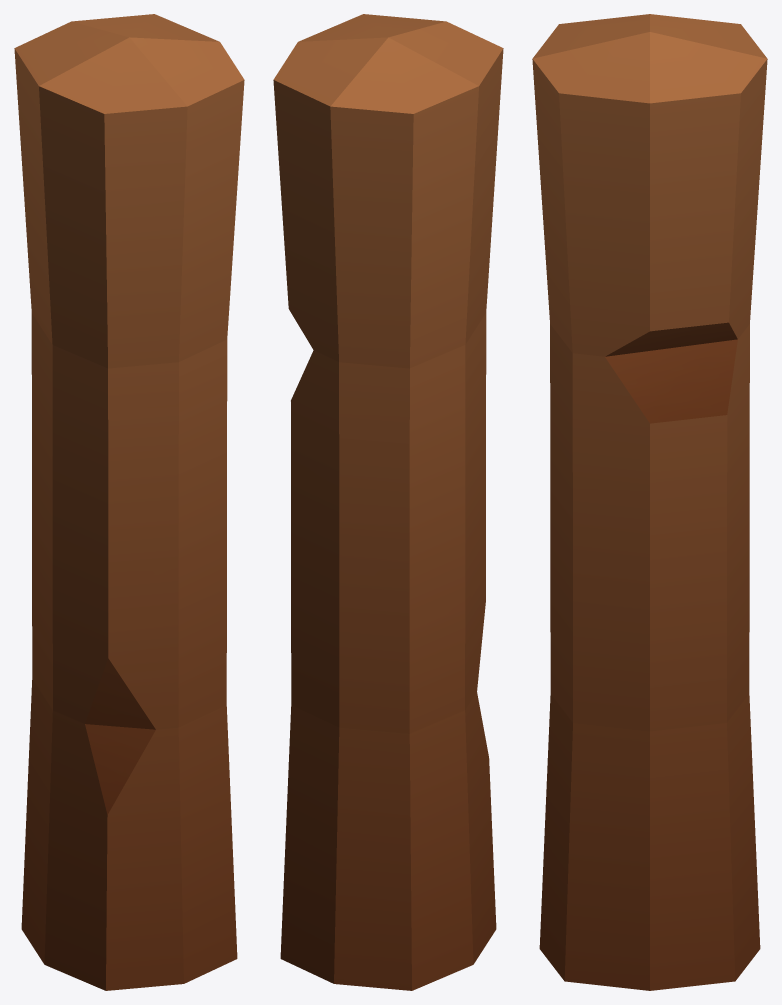
The model's file is pillar.glb.
3 views of the same model, side by side, from view 1: azimuth 30°, elevation 25°; view 2: azimuth 150°, elevation 25°; view 3: azimuth 270°, elevation 25° (orthographic).
Parts seen in each view (by area): view 1: Pillar; view 2: Pillar; view 3: Pillar.
Part boxes in pixels (x1=…): Pillar: x1=14, y1=14, x2=244, y2=990; Pillar: x1=273, y1=14, x2=503, y2=990; Pillar: x1=532, y1=14, x2=767, y2=990.
Size of the model in its own units: 0.6312 by 3.02 by 0.7013.
Materials: 1 (1 with a texture image).
